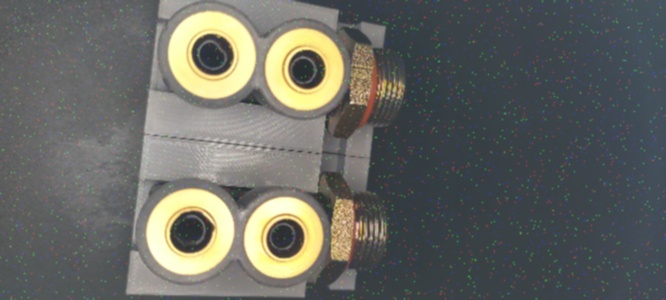off-centered: (192, 36, 233, 74), (169, 213, 209, 249)
